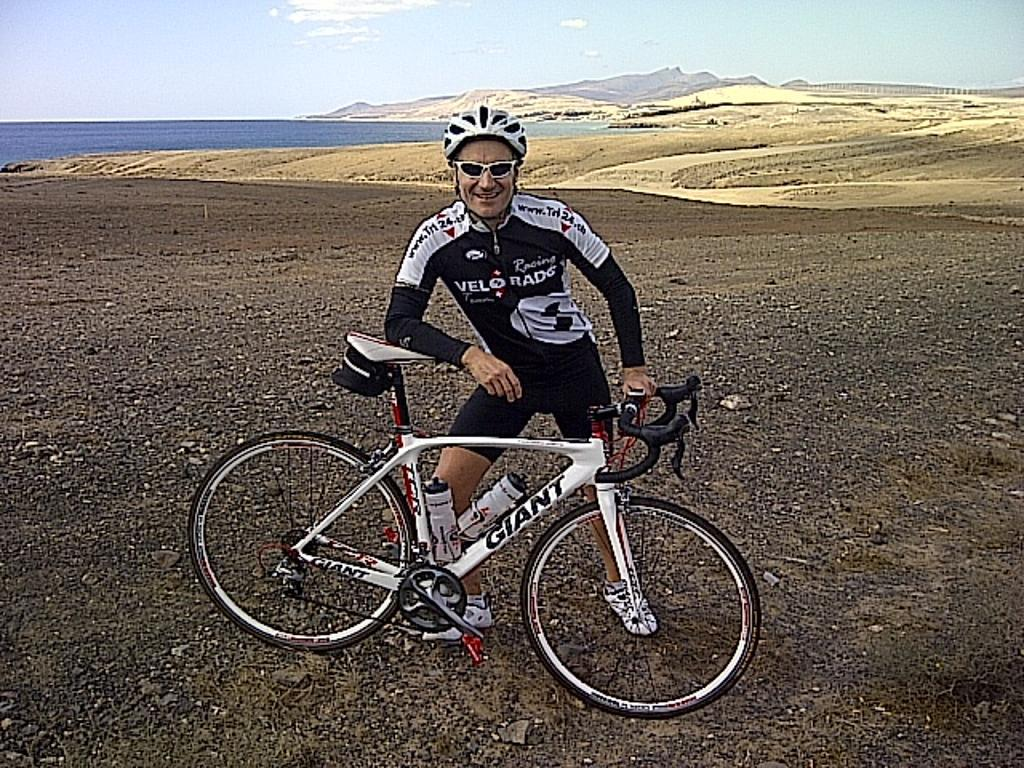face: (457, 135, 517, 217)
